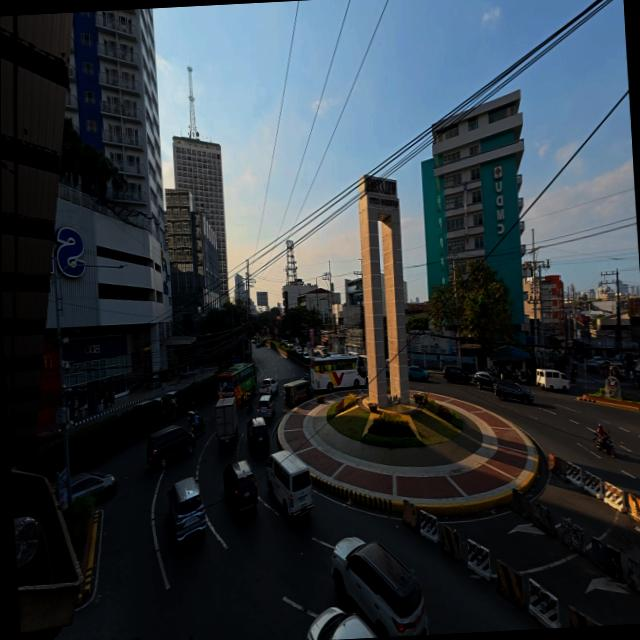Jeepneys: (283, 380, 312, 406)
bus: (310, 355, 366, 391), (217, 363, 255, 407)
car: (330, 538, 427, 637), (167, 477, 206, 541), (306, 607, 375, 639), (146, 426, 193, 468), (222, 460, 257, 512), (71, 472, 116, 501), (495, 381, 533, 404), (246, 417, 269, 450), (443, 366, 470, 384), (474, 371, 497, 389), (257, 395, 274, 419), (36, 431, 62, 446), (408, 365, 428, 382), (160, 391, 176, 411), (130, 400, 154, 410), (608, 364, 624, 379), (592, 357, 605, 365), (385, 362, 389, 377), (295, 346, 302, 354), (256, 341, 264, 348), (302, 352, 309, 359)
motorcycle: (592, 433, 614, 458), (190, 418, 204, 435), (516, 372, 531, 386), (188, 410, 196, 425), (245, 399, 252, 412), (570, 371, 576, 383), (571, 363, 577, 373)
trucks: (214, 397, 237, 444), (258, 378, 277, 395)
vans: (265, 451, 312, 516), (535, 369, 570, 391)
